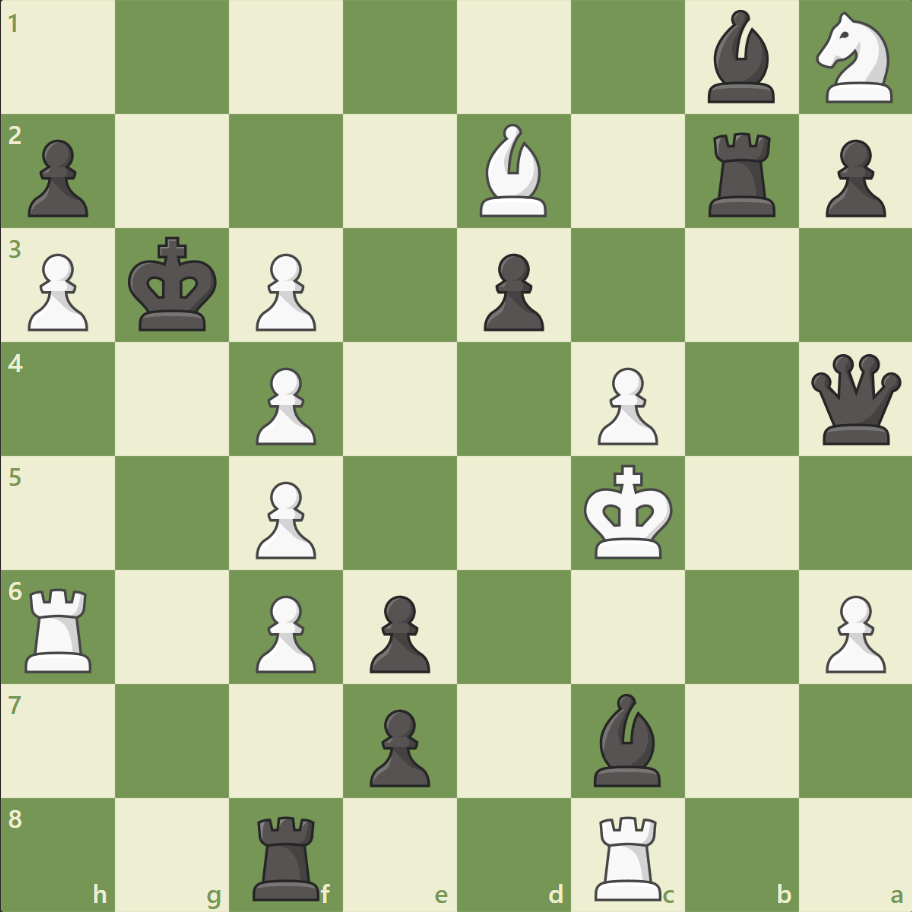B: (471, 120, 555, 222)
K: (579, 458, 679, 566)
N: (806, 7, 903, 110)
P: (247, 586, 322, 677), (247, 473, 322, 564), (247, 359, 322, 450), (247, 246, 322, 337), (20, 246, 95, 337), (815, 586, 889, 677), (588, 359, 662, 450)
R: (587, 806, 670, 904), (19, 579, 102, 676)
b: (585, 687, 669, 790), (698, 6, 782, 109)
k: (124, 231, 224, 339)
p: (474, 246, 549, 337), (20, 132, 95, 223), (361, 700, 435, 791), (361, 586, 435, 677), (815, 132, 889, 223)
q: (805, 349, 904, 449)
r: (246, 806, 329, 904), (700, 125, 783, 222)
